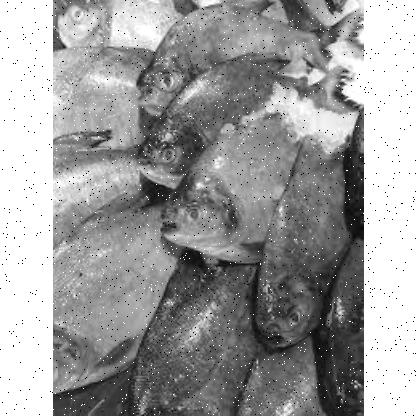ikan-pacu: (160, 85, 338, 261), (250, 130, 362, 352), (52, 194, 170, 398), (138, 2, 341, 108), (137, 59, 294, 185), (134, 262, 250, 414)
